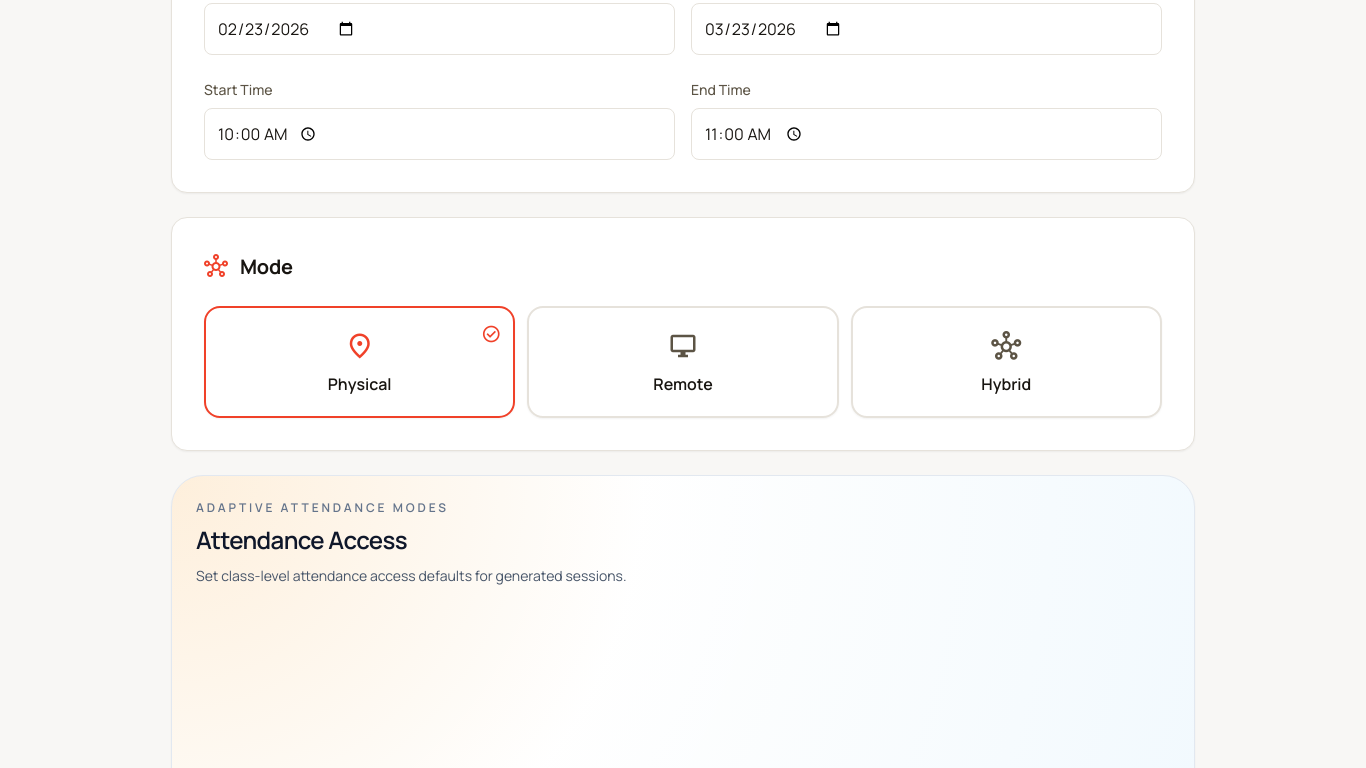
Test case: ClassConfigure › shows confirmation dialog when mode changes
The image size is (1366, 768).
(page scrolled)
What coordinates should you click on to do the following:
click the text "Remote"
I would click on:
 (683, 384)
Its box is left=653, top=372, right=713, bottom=396.
(page scrolled)
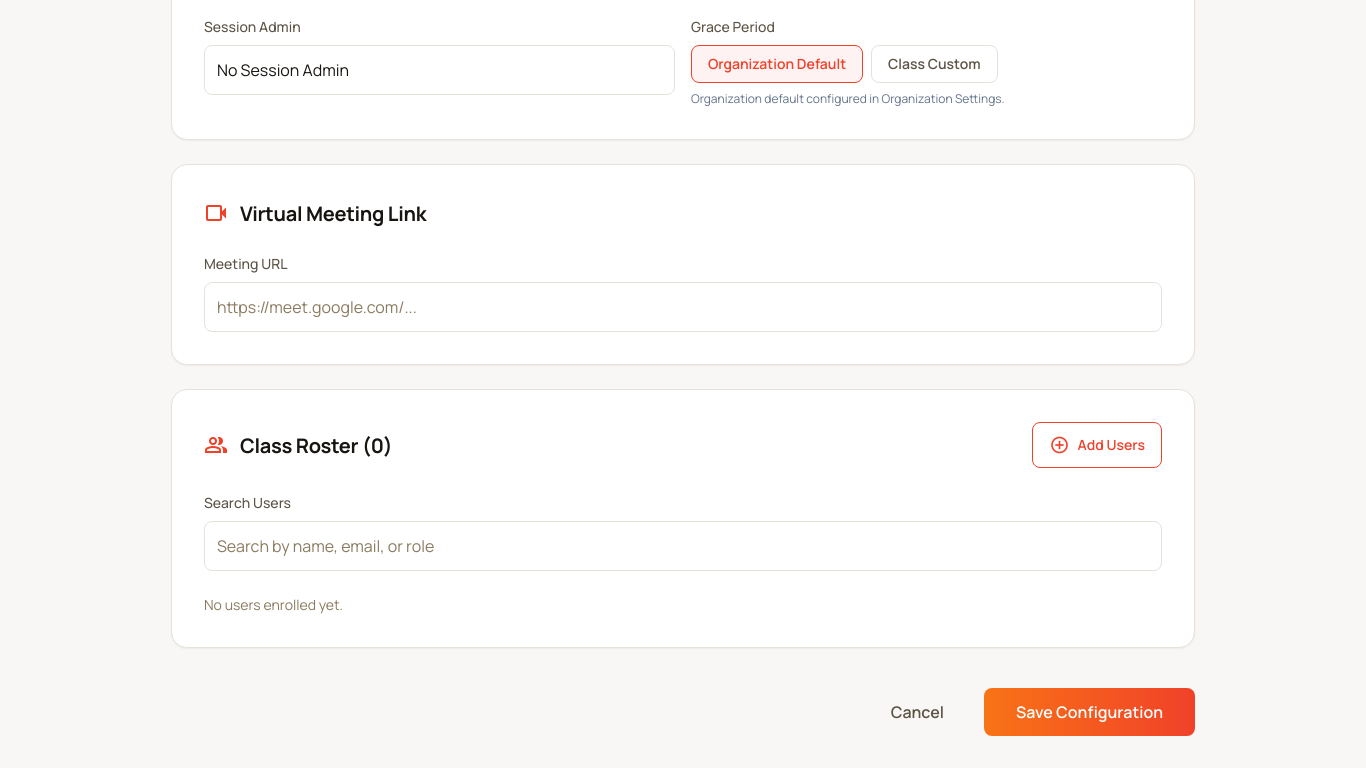
What coordinates should you click on to do the following:
click the button "Save Configuration"
I would click on:
 (1090, 712)
Its box is left=984, top=688, right=1195, bottom=736.
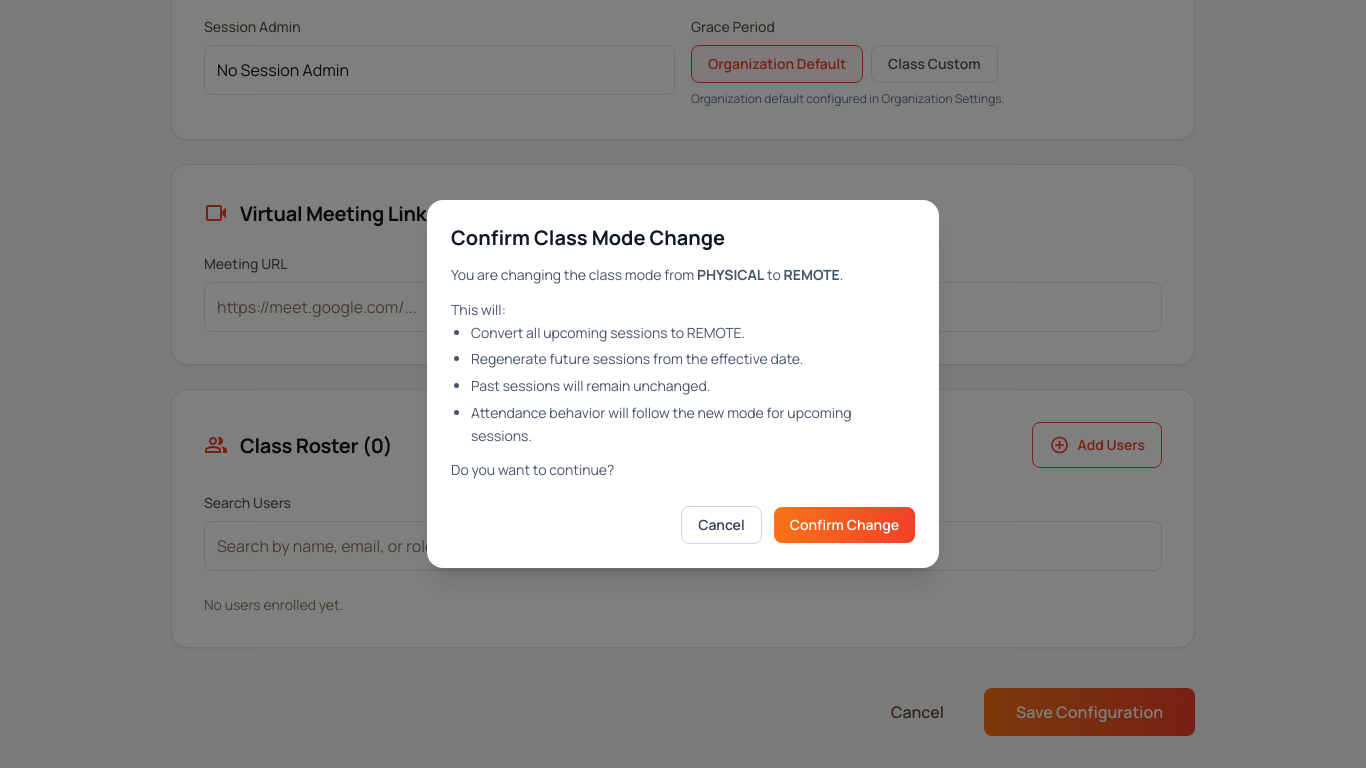
Now the heading "Confirm Class Mode Change" is shown, box left=451, top=224, right=725, bottom=251
